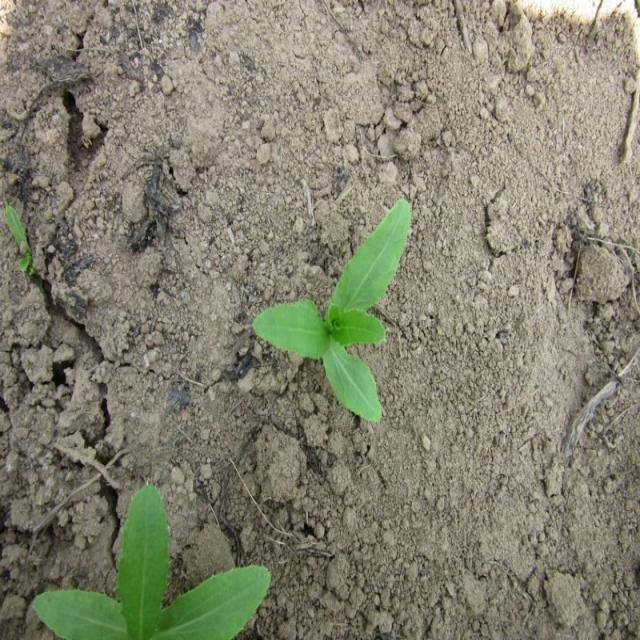field_thistle: (249, 180, 418, 430)
